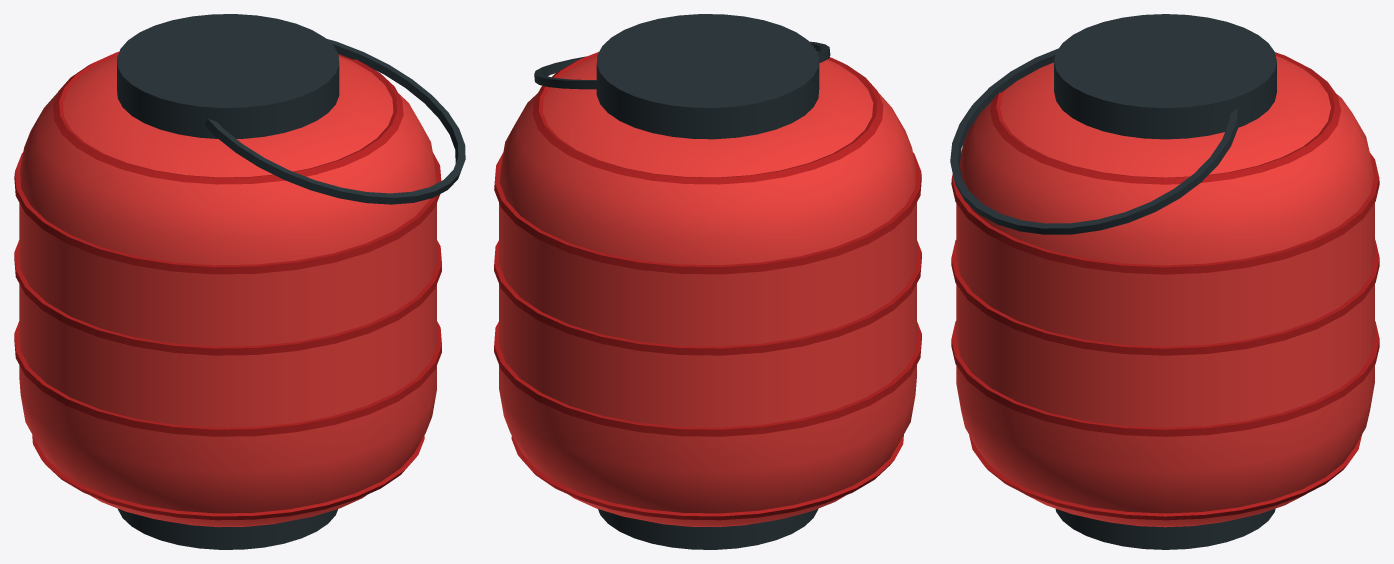
Rendered from red_paper_lantern.glb.
3 renders of one model, left to right at view 1: azimuth 30°, elevation 25°; view 2: azimuth 150°, elevation 25°; view 3: azimuth 270°, elevation 25°, orthographic.
Visible parts, largest first — view 1: Cylinder.500; view 2: Cylinder.500; view 3: Cylinder.500.
Part boxes in pixels (box(x1,y1,x2,y2)): Cylinder.500: box(14, 14, 465, 549); Cylinder.500: box(494, 14, 921, 549); Cylinder.500: box(950, 14, 1379, 549).
Size of the model in its own units: 1.85 by 2.1 by 1.85.
1 material, 1 textured.
